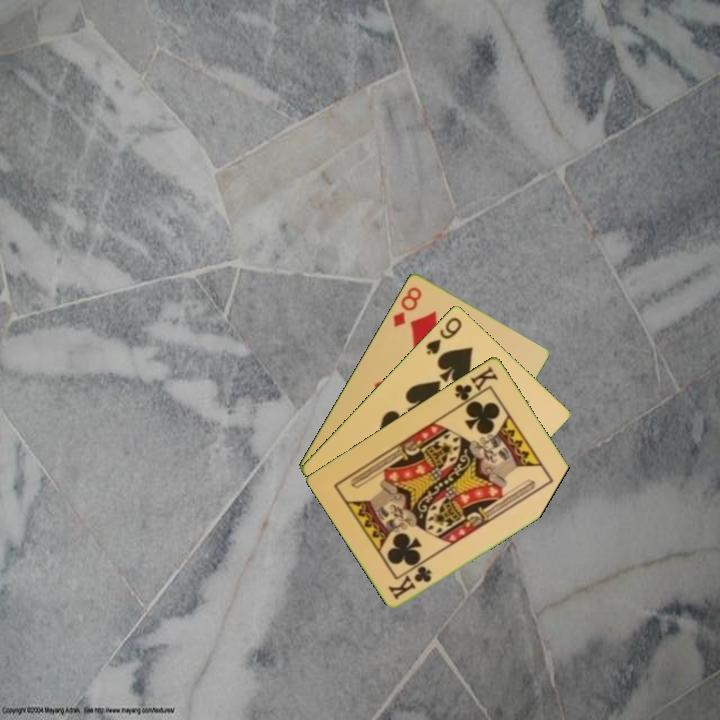8d: (389, 283, 425, 330)
9s: (422, 313, 465, 358)
Kc: (451, 362, 501, 408), (385, 562, 435, 602)
